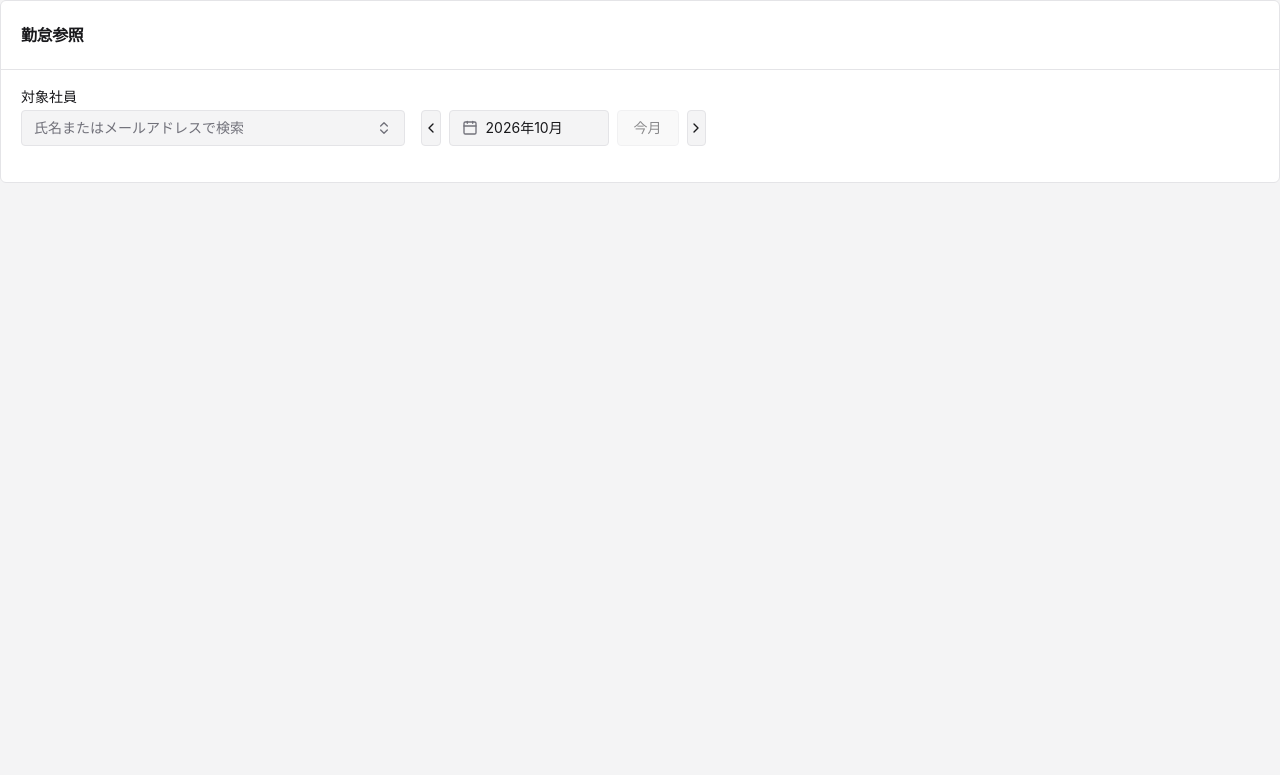
AttendanceReferencePage › shows the selected employees monthly attendance by default
This screenshot has width=1280, height=775.
Step 1. Click the dropdown → (213, 128), box [21,110,405,146]
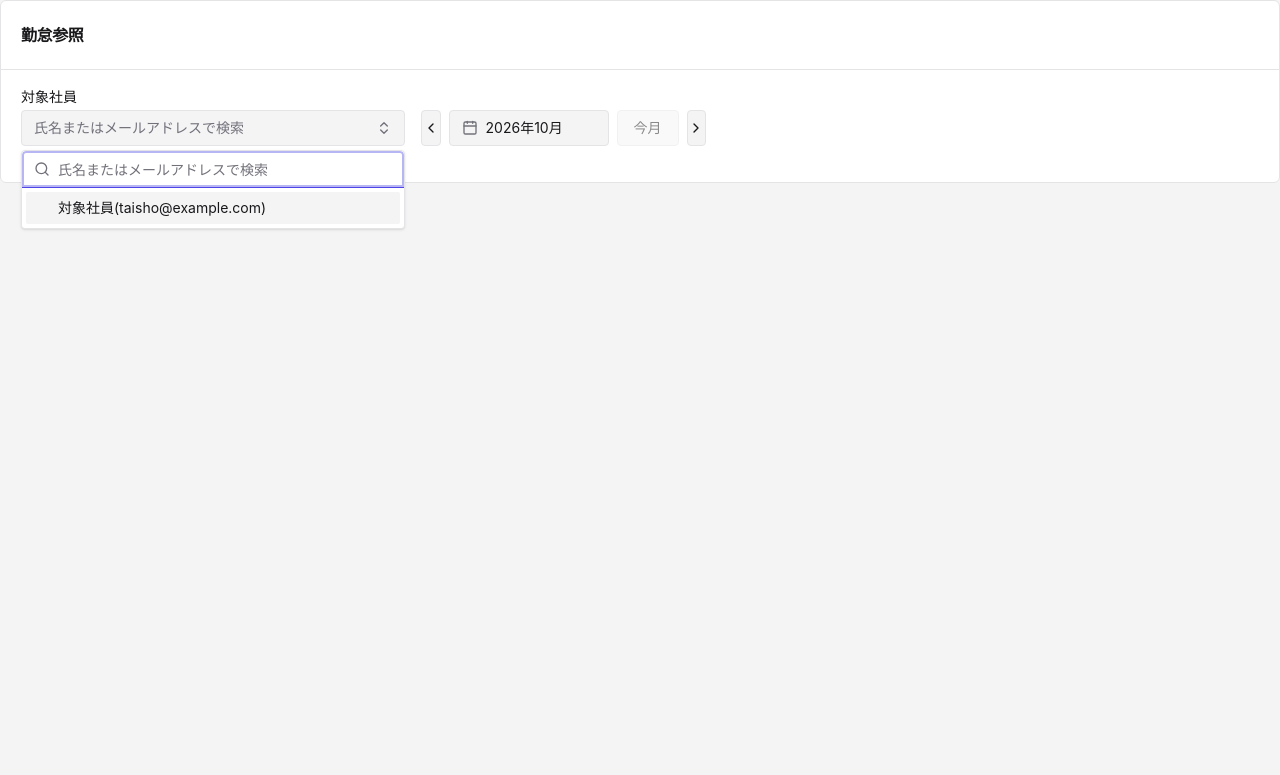
Step 2. Type "対象" into the 2nd dropdown with placeholder "氏名またはメールアドレスで検索" → (225, 169), box [58,151,392,187]
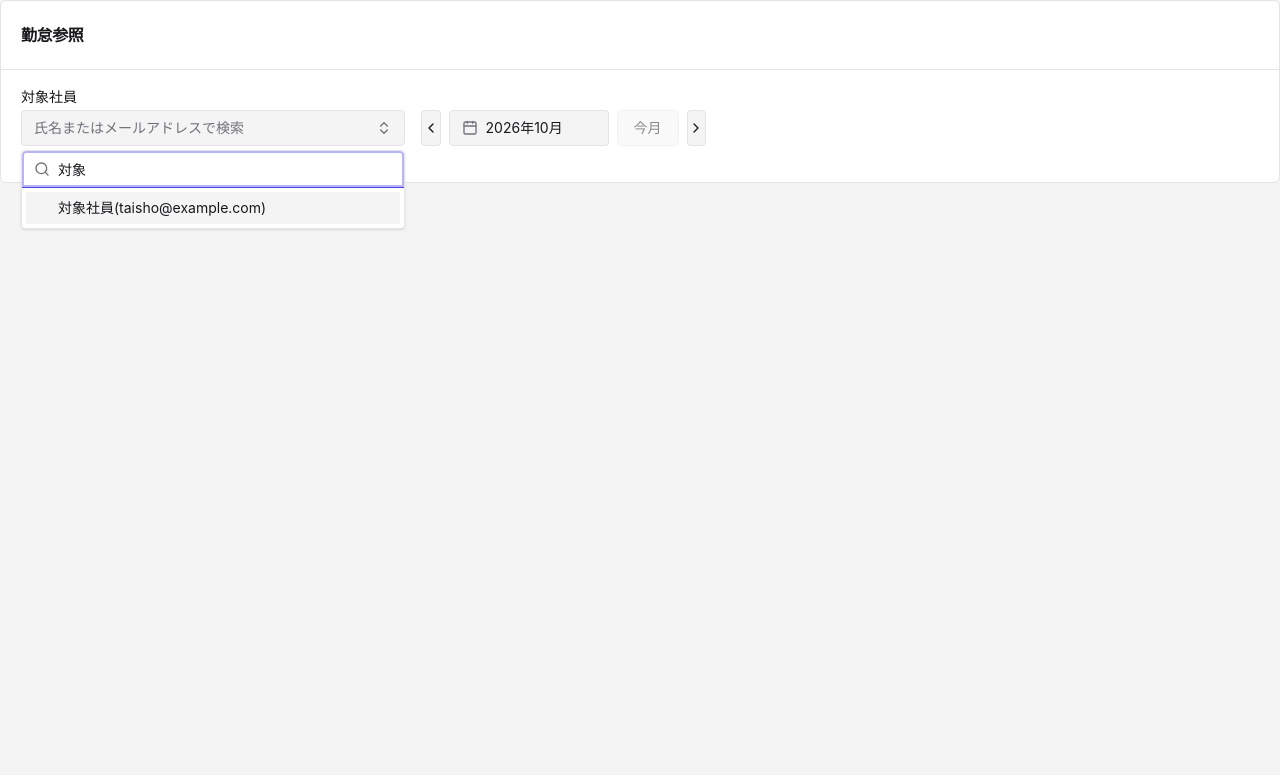
Step 3. Click the option "対象社員(taisho@example.com)" → (213, 208), box [26,192,400,224]
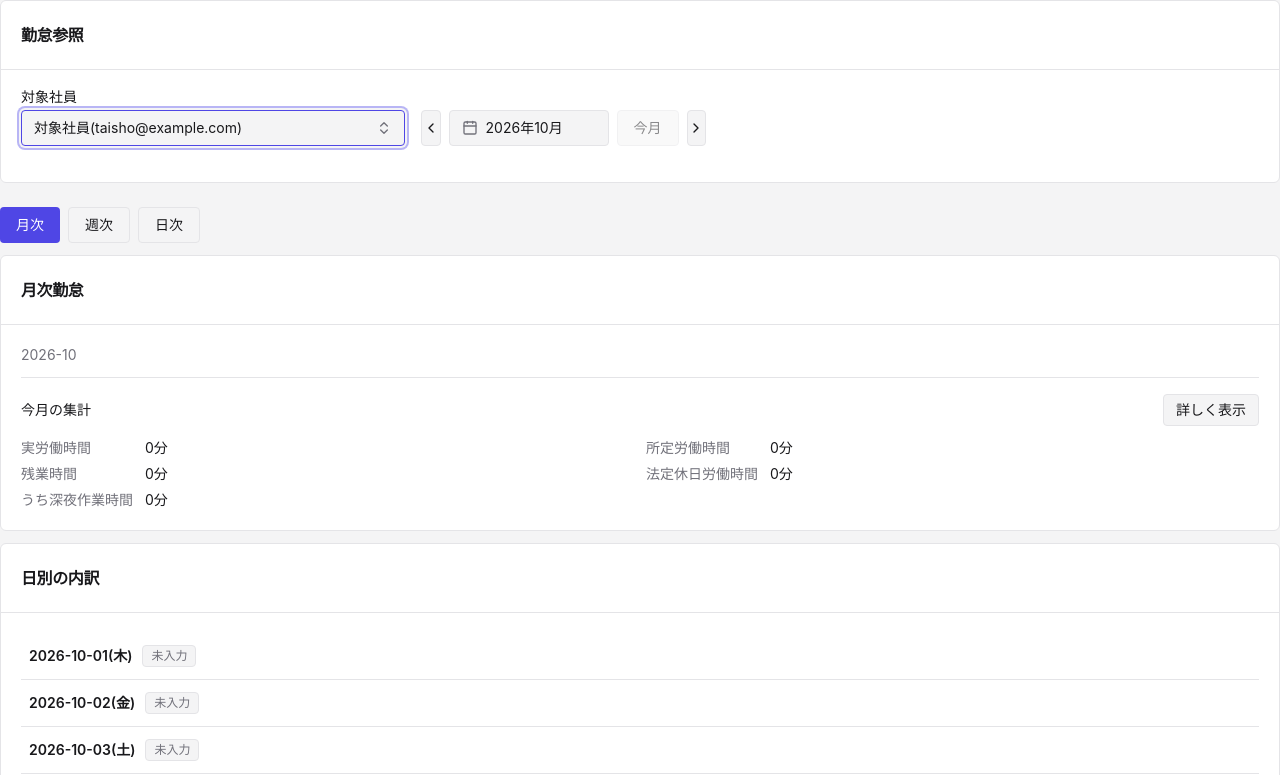
Expected: the heading "月次勤怠" is shown, [21,280,83,300]
